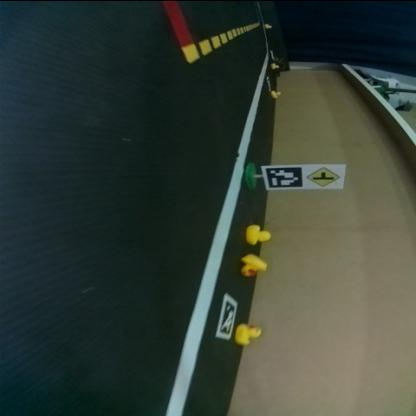Duckie: (243, 252, 268, 274), (247, 223, 272, 244), (236, 323, 262, 343), (272, 89, 282, 96), (264, 22, 272, 28), (273, 62, 280, 68)
Intersection sign: (306, 164, 342, 186)
QR code: (217, 291, 239, 338), (266, 164, 304, 188)
